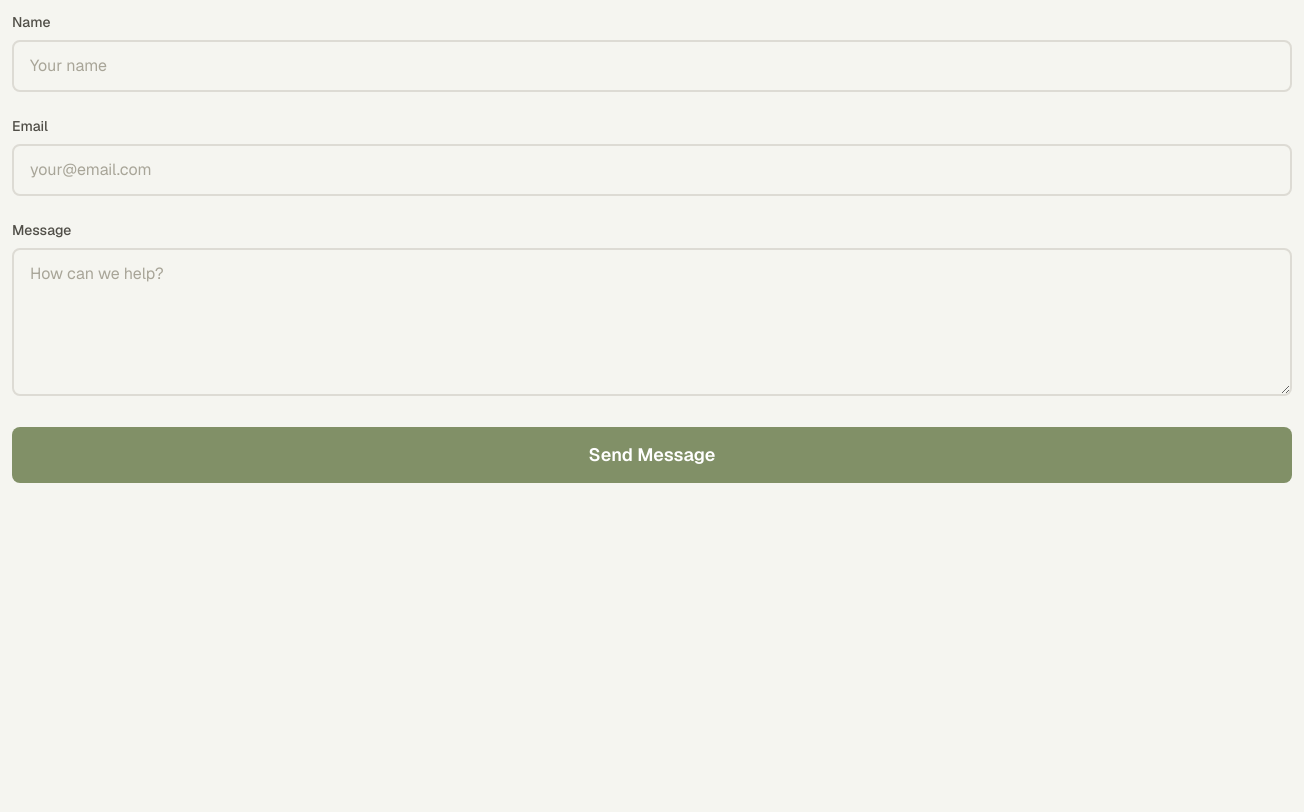
Test case: ContactForm › validation › shows error for empty message
The width and height of the screenshot is (1304, 812).
In the field labelled "Name": (652, 66) x1=12 y1=40 x2=1292 y2=92, type "John"
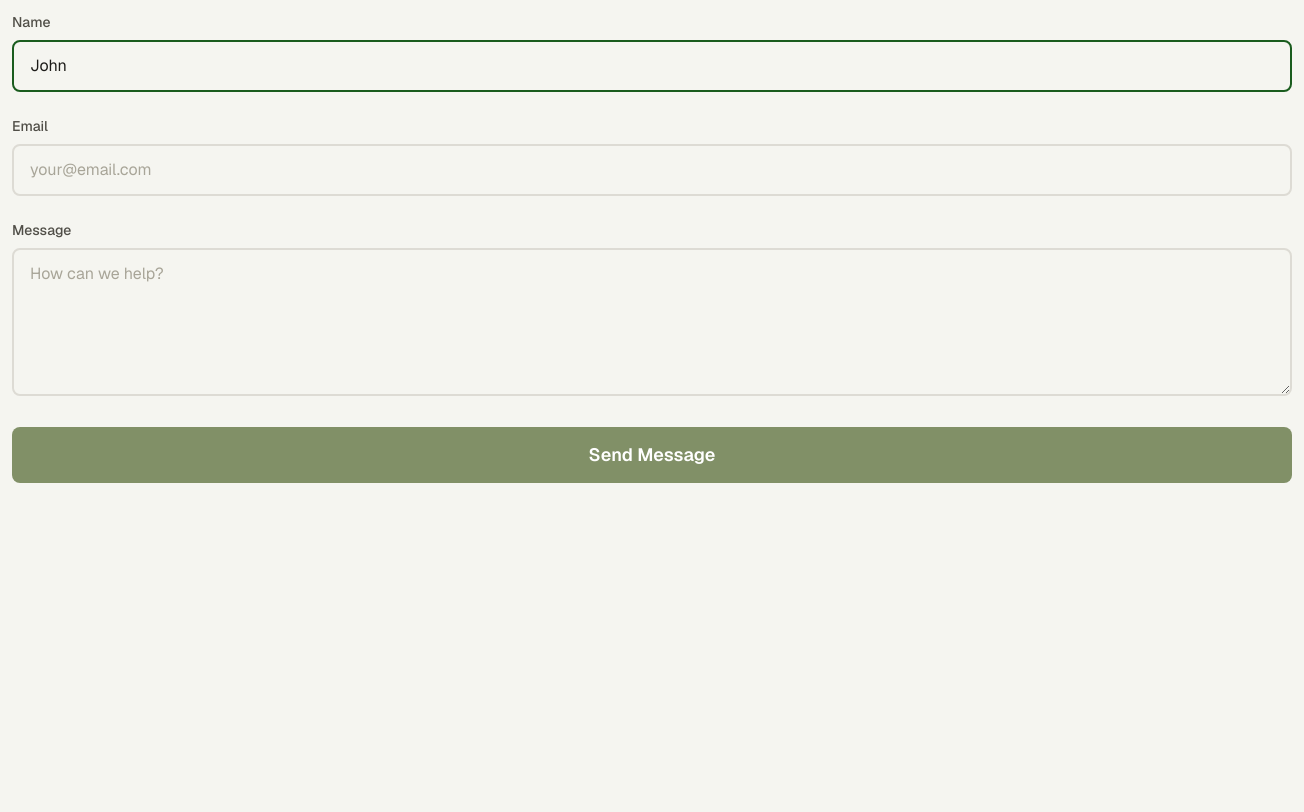
In the field labelled "Email": (652, 170) x1=12 y1=144 x2=1292 y2=196, type "john@example.com"
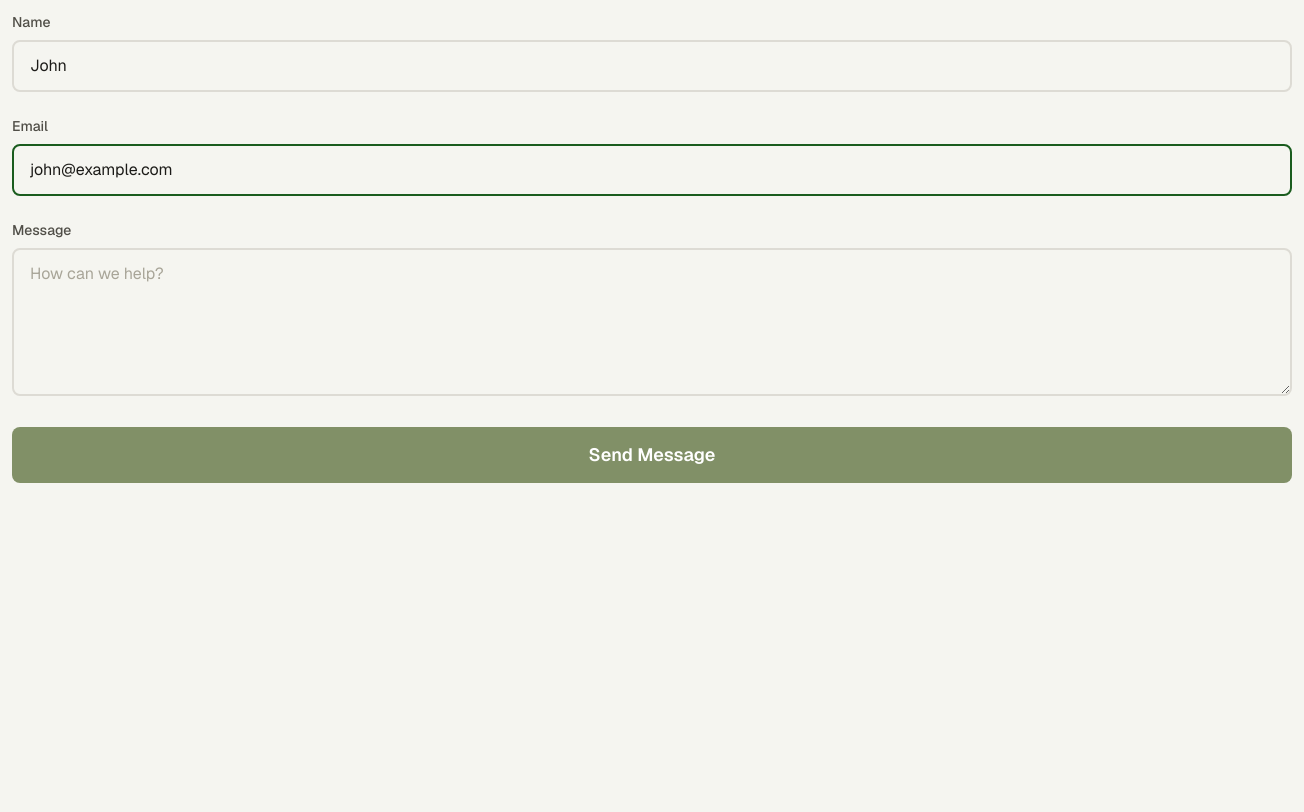
Click the button "Send Message": (652, 455) x1=12 y1=427 x2=1292 y2=483
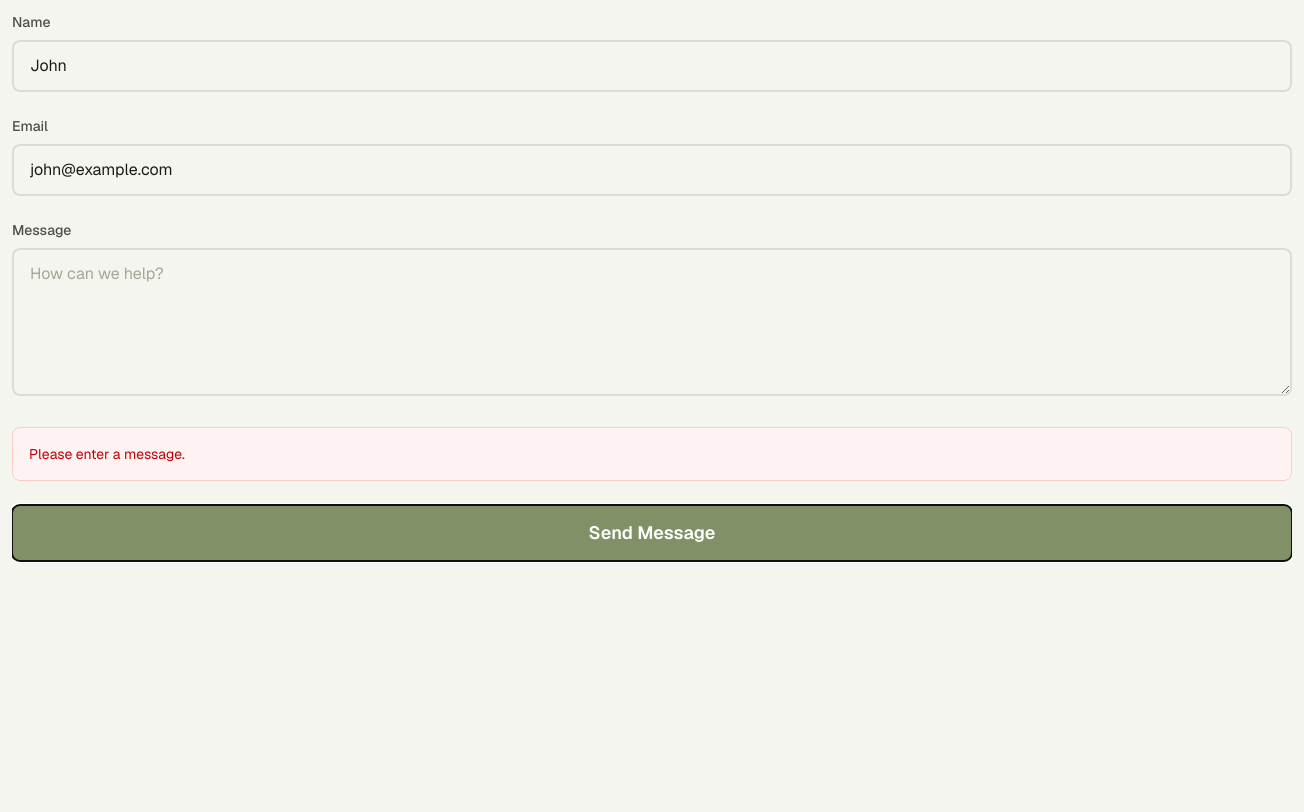
Expected: the text "Please enter a message." is shown, x1=12 y1=427 x2=1292 y2=481
